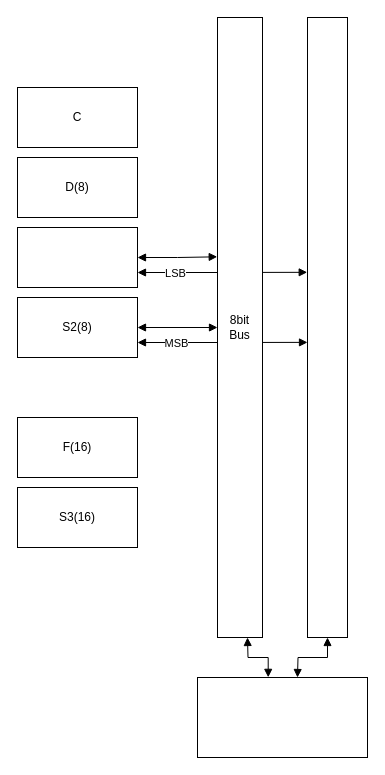
This 385x775 diagram has some shape labels left out. Each missing label, with the centre of its shape:
"16bit Bus" goes at (327,327).
"S1(8)" goes at (77,257).
"TX" goes at (282,717).
